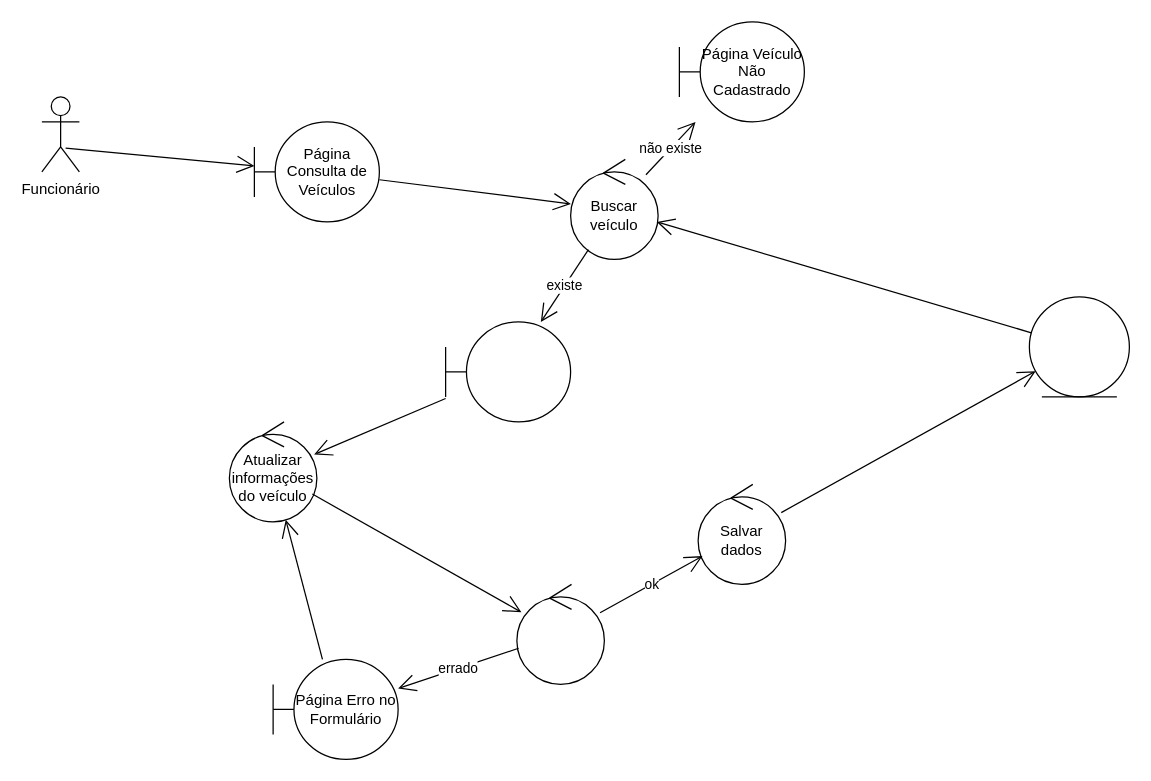
Some shapes in this 1151 by 781 pixel diagram are drawn without their labels. Here are the shapes that lost their labels. From the top down, the centre of each, then its label:
At point (1078, 346): "Veículos".
At point (507, 371): "Página Detalhes do Veículo".
At point (560, 633): "Check Formulário".
